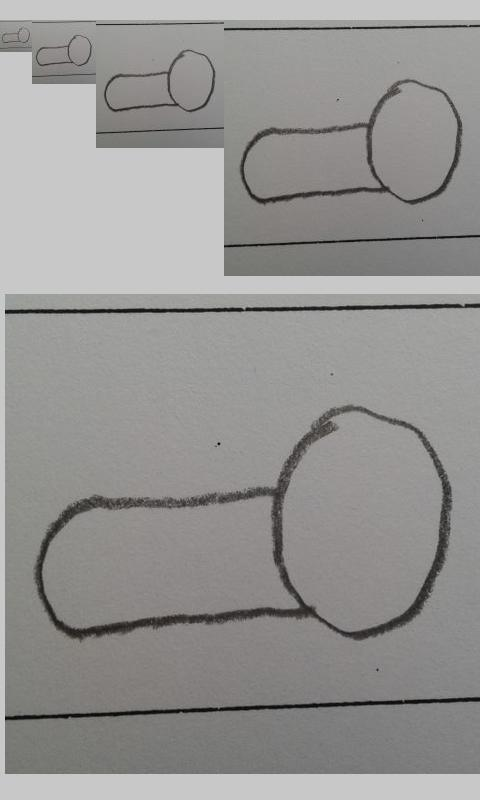switch: (34, 404, 454, 642), (239, 79, 463, 206), (103, 49, 216, 113), (35, 34, 93, 67), (1, 27, 31, 44)
